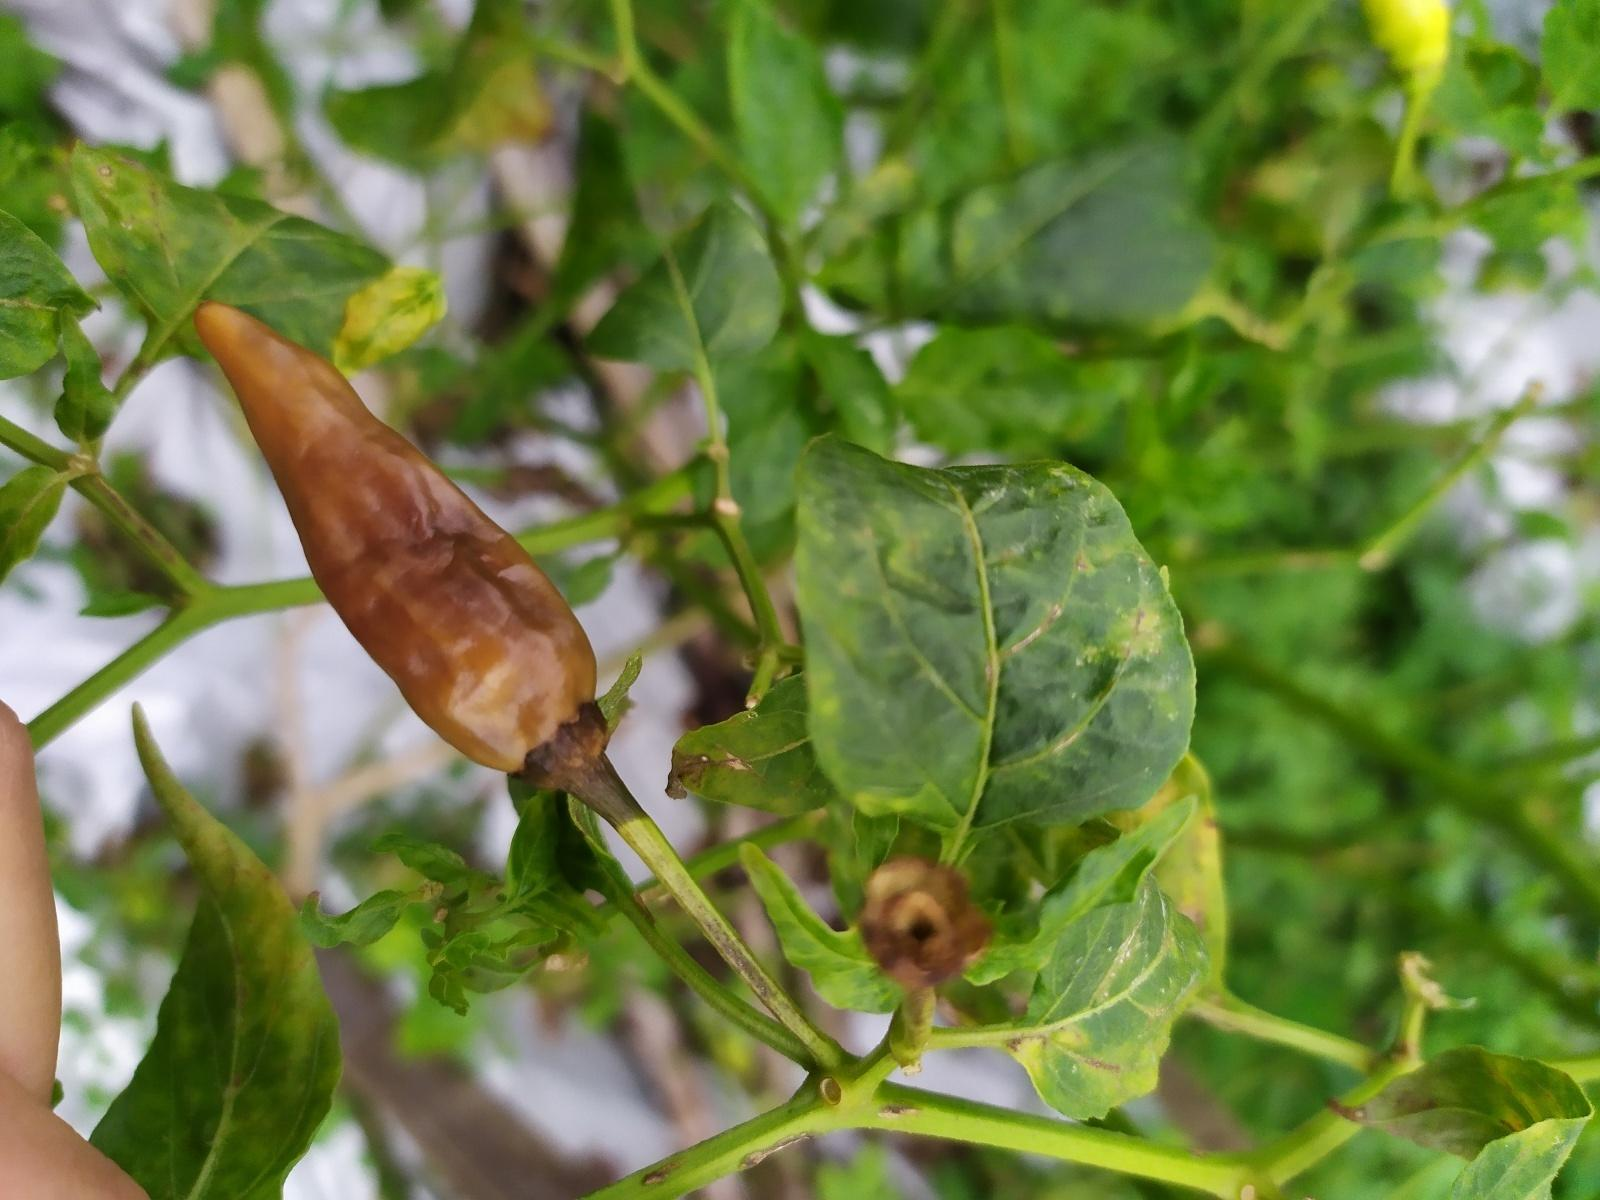lalat_buah: (190, 297, 595, 773)
